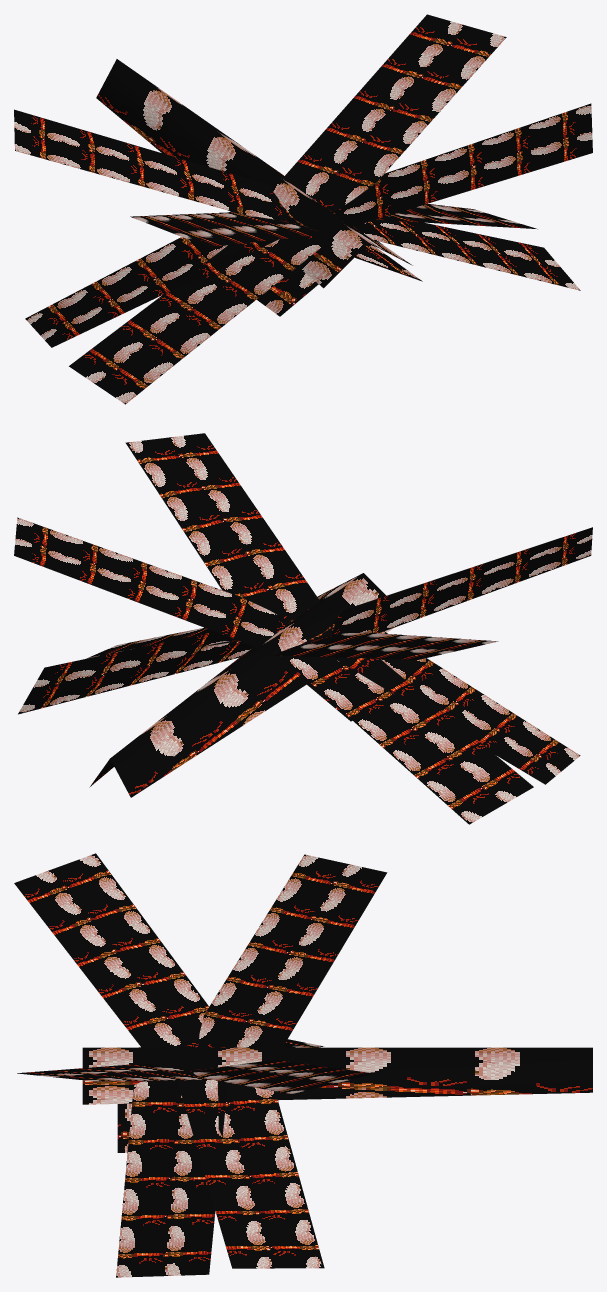
Rendered from 4997musi07.gltf.
3 renders of one model, top to bottom at view 1: azimuth 30°, elevation 25°; view 2: azimuth 150°, elevation 25°; view 3: azimuth 270°, elevation 25°, orthographic.
Visible parts, largest first — view 1: 4997musi07; view 2: 4997musi07; view 3: 4997musi07.
Part boxes in pixels (<box>): 4997musi07: <box>14,14,592,404</box>; 4997musi07: <box>14,433,592,824</box>; 4997musi07: <box>14,853,592,1277</box>.
Size of the model in its own units: 0.4585 by 0.1743 by 0.4656.
2 materials, 2 textured.
